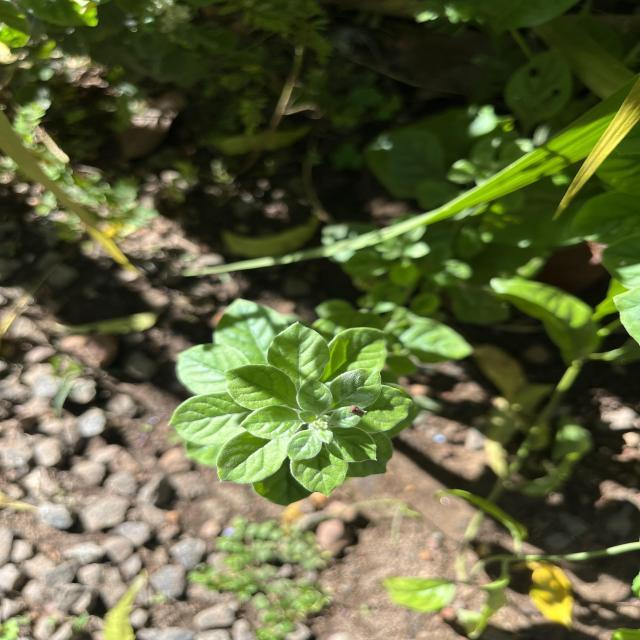Aerva lanata: (214, 428, 292, 486), (264, 320, 332, 386), (223, 362, 298, 414), (287, 445, 351, 499), (235, 402, 302, 442), (294, 378, 335, 417)
